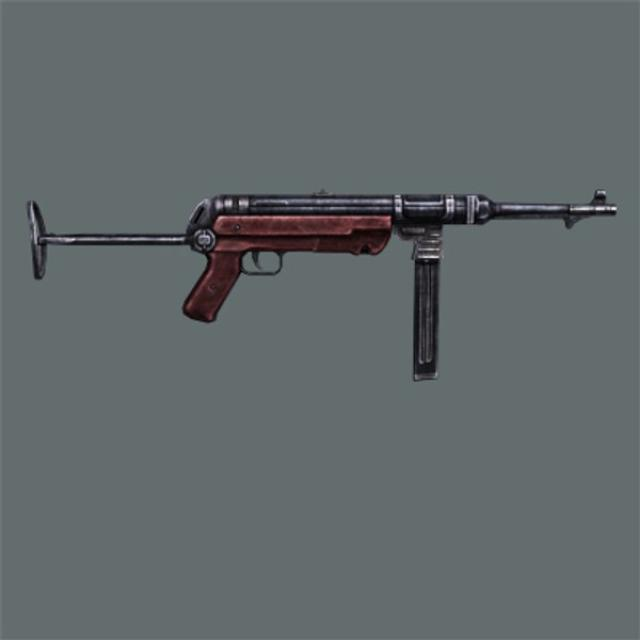SMG: (32, 194, 619, 381)
